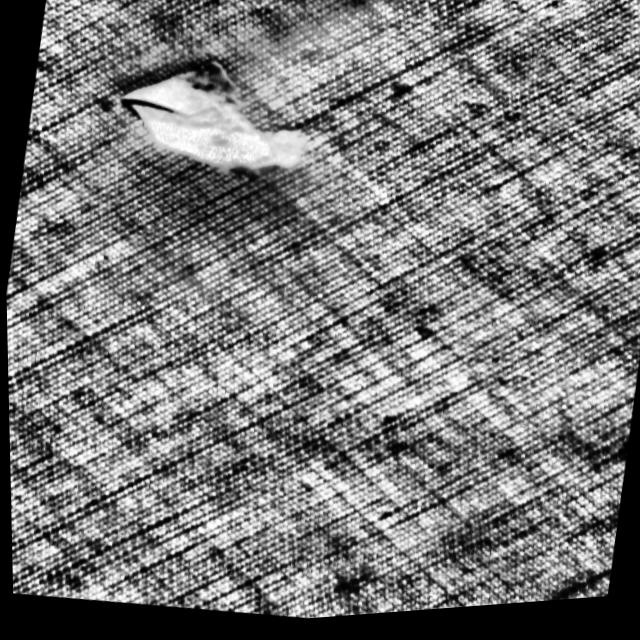Stitch: (99, 34, 318, 194)
